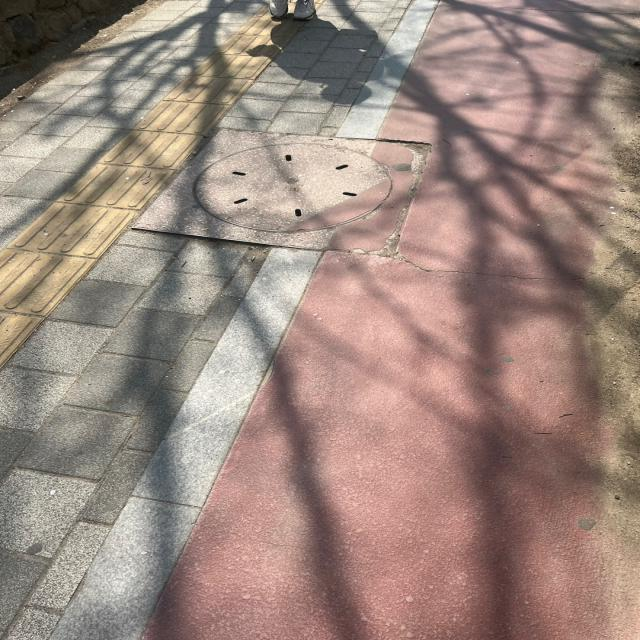Sewer Cover: (116, 107, 464, 275)
